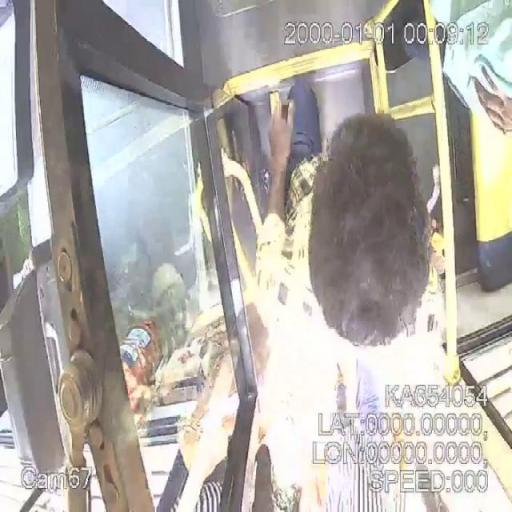persona: (250, 84, 446, 367), (309, 356, 390, 512)
